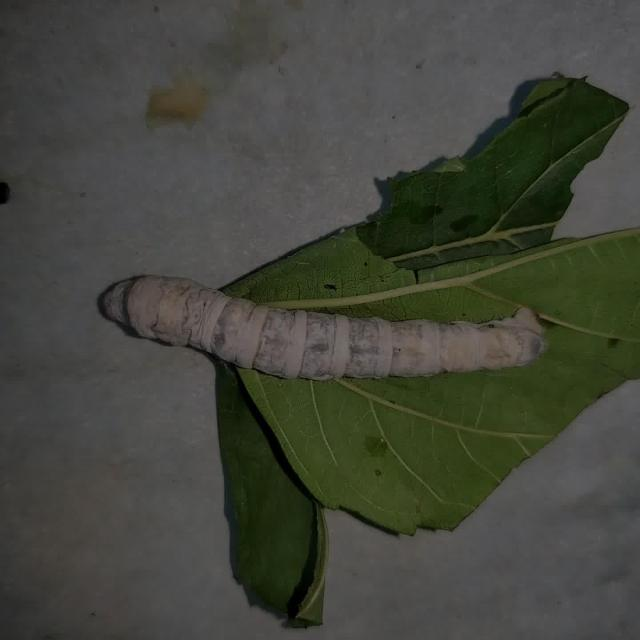Grasserie: (86, 253, 554, 402)
